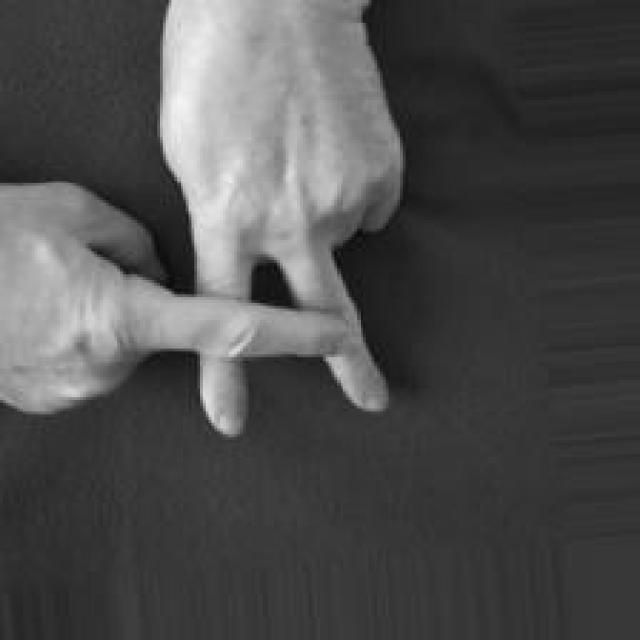A: (1, 0, 412, 441)
